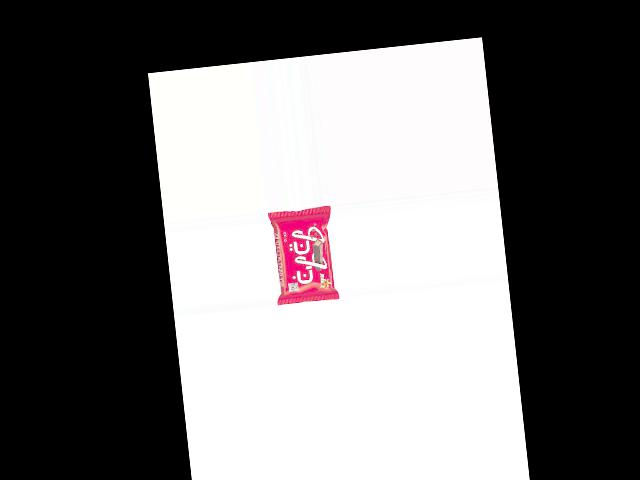chocolate: (266, 206, 339, 305)
